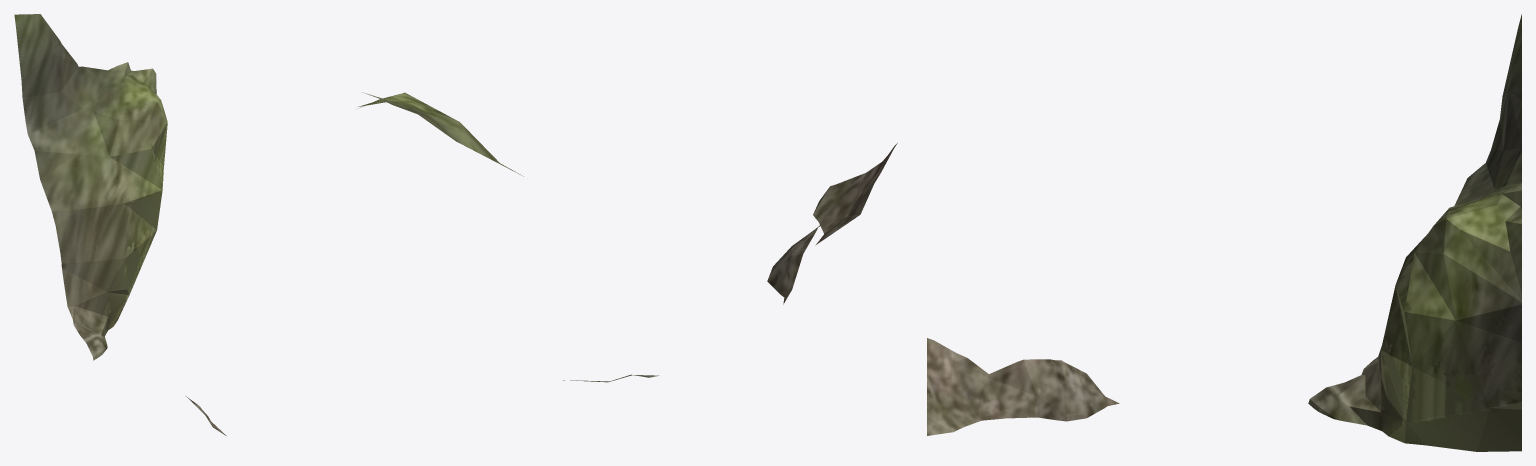
3 views of the same model, side by side, from view 1: azimuth 30°, elevation 25°; view 2: azimuth 150°, elevation 25°; view 3: azimuth 270°, elevation 25° (orthographic). The views are drawn at different scales.
Bounding box in the file's own units: 1.11 × 2.13 × 2.95.
Materials: 1 (1 with a texture image).
